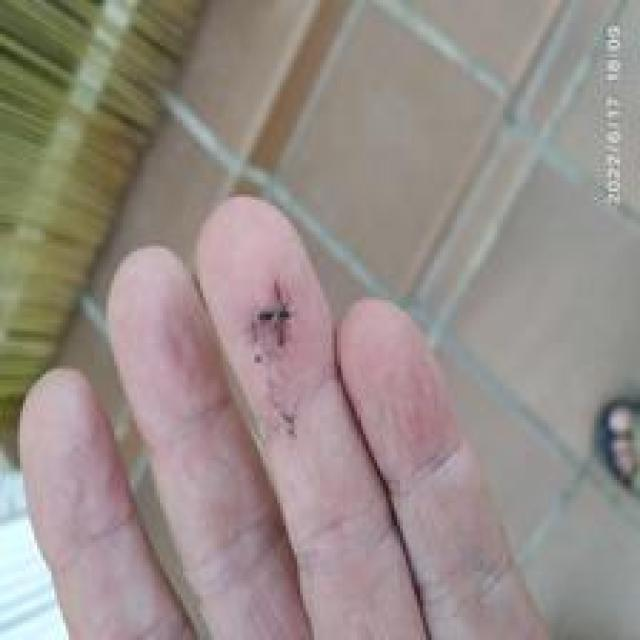Aedes albopictus: (0, 0, 220, 471)
